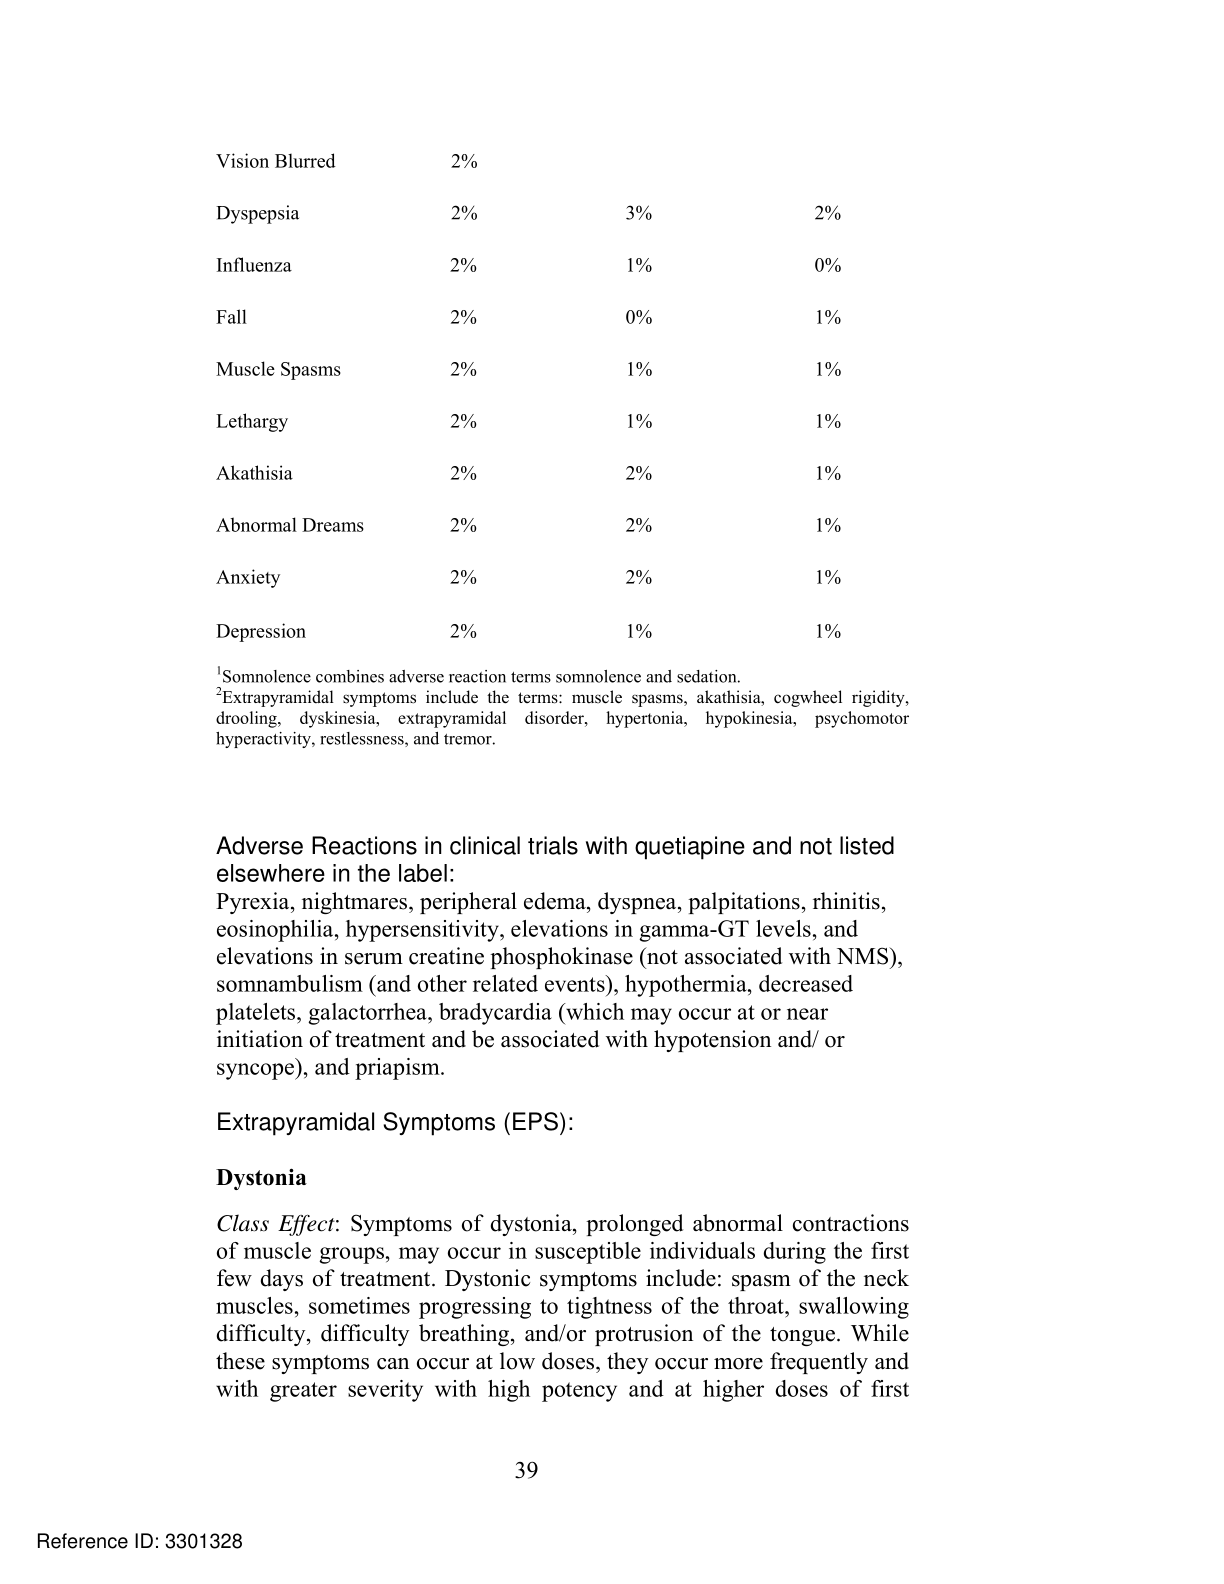nolines: (213, 147, 847, 647)
